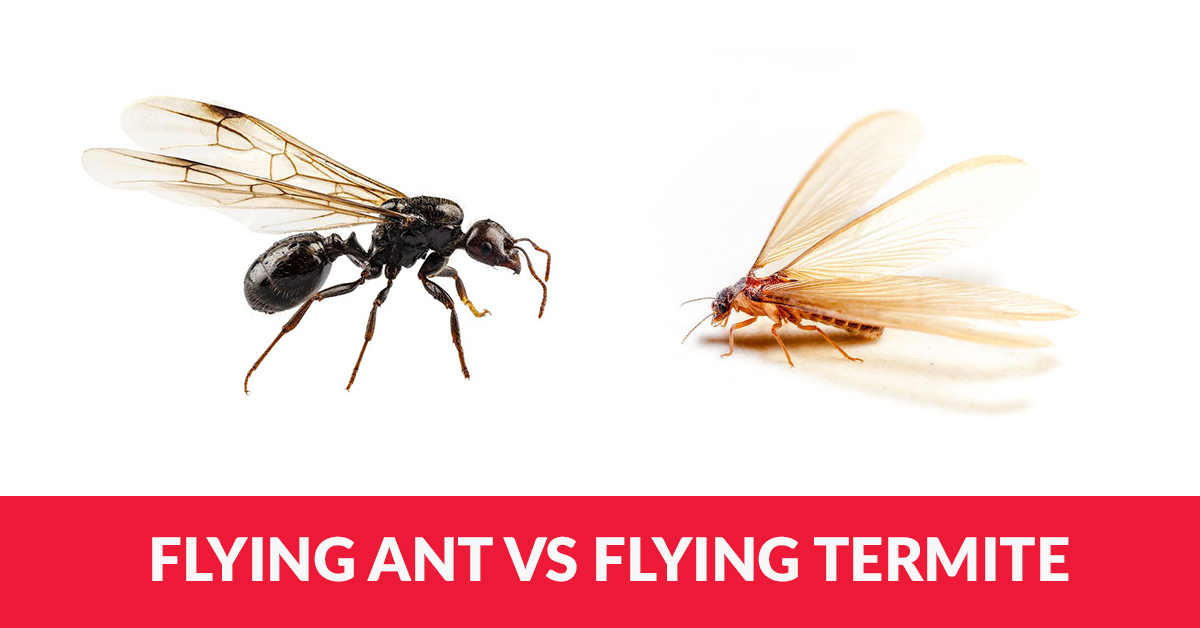flying termite: (658, 101, 1121, 423)
